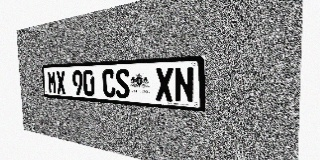0: (82, 70, 95, 96)
9: (72, 70, 83, 96)
C: (102, 69, 116, 98)
M: (47, 71, 57, 94)
N: (174, 67, 194, 103)
S: (115, 69, 130, 99)
X: (155, 67, 174, 102), (56, 71, 66, 94)
